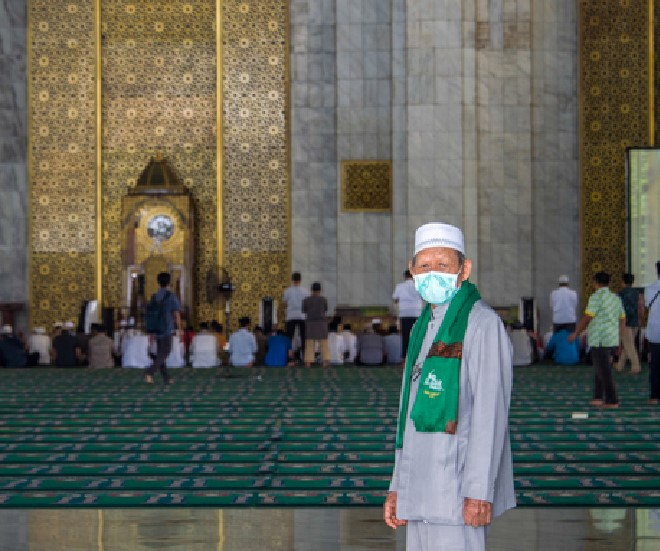face_with_mask: (406, 219, 473, 312)
